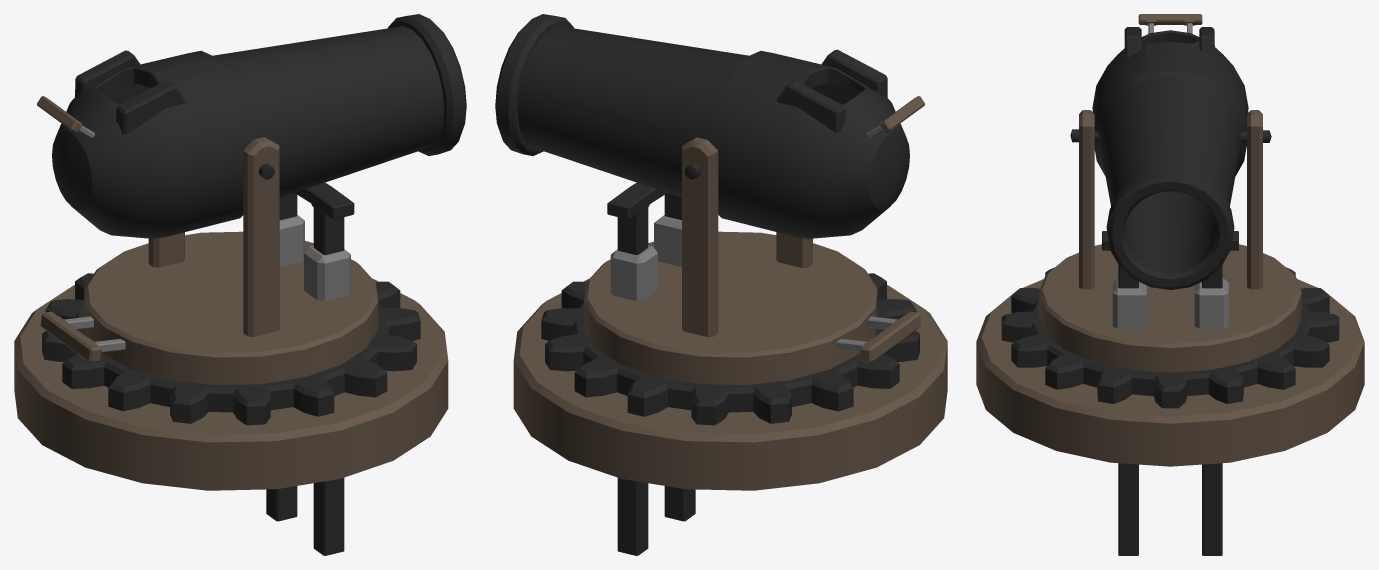
Rendered from Cannon.fbx.
3 views of the same model, side by side, from view 1: azimuth 30°, elevation 25°; view 2: azimuth 150°, elevation 25°; view 3: azimuth 270°, elevation 25° (orthographic). The views are drawn at different scales.
Visible parts, largest first — view 1: pasted__polySurface1, pasted__polySurface7, pasted__pCylinder1, pasted__pasted__pCube5; view 2: pasted__polySurface1, pasted__polySurface7, pasted__pCylinder1, pasted__pasted__pCube5; view 3: pasted__polySurface7, pasted__polySurface1, pasted__pCylinder1, pasted__pasted__pCube5.
Part boxes in pixels (box(x1,y1,x2,y2)): pasted__polySurface1: box(37, 14, 466, 238); pasted__polySurface7: box(40, 137, 420, 425); pasted__pCylinder1: box(14, 278, 448, 490); pasted__pasted__pCube5: box(266, 182, 354, 555); pasted__polySurface1: box(495, 14, 924, 238); pasted__polySurface7: box(541, 137, 921, 425); pasted__pCylinder1: box(513, 278, 947, 490); pasted__pasted__pCube5: box(607, 182, 695, 555); pasted__polySurface7: box(1001, 110, 1339, 408); pasted__polySurface1: box(1092, 14, 1248, 289); pasted__pCylinder1: box(976, 279, 1364, 466); pasted__pasted__pCube5: box(1102, 231, 1238, 555).
Bounding box in the file's own units: 4.48 × 5.5 × 4.33.
